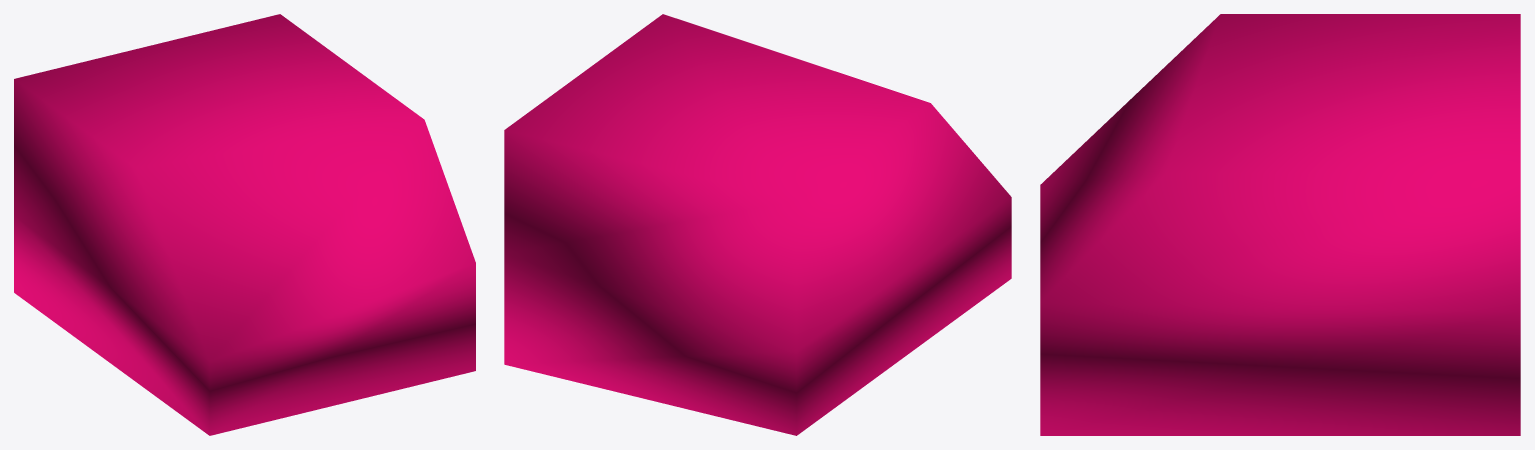
Rendered from Brick_01.fbx.
The picture shows the model from 3 angles, left to right: view 1: azimuth 30°, elevation 25°; view 2: azimuth 150°, elevation 25°; view 3: azimuth 270°, elevation 25°; orthographic projection. The views are drawn at different scales.
Parts seen in each view (by area): view 1: Brick_01; view 2: Brick_01; view 3: Brick_01.
Part boxes in pixels (bbox=[...]): Brick_01: bbox=[14, 14, 475, 435]; Brick_01: bbox=[504, 14, 1011, 435]; Brick_01: bbox=[1040, 14, 1520, 435].
Size of the model in its own units: 9.63 by 7.39 by 12.26.
